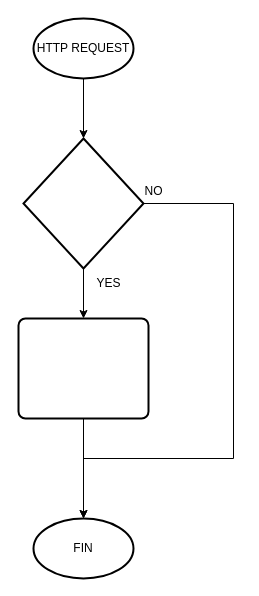
This 259x596 diagram has some shape labels left out. Each missing label, with the centre of its shape:
Http request url match with mockapi?: point (83, 203)
Intercept and call reply: point (83, 368)
